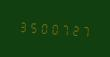five: (27, 18, 36, 35)
seven: (77, 21, 86, 39), (57, 20, 66, 37)
three: (17, 17, 26, 34)
two: (67, 20, 76, 38)
zero: (37, 18, 46, 36), (47, 19, 56, 37)
